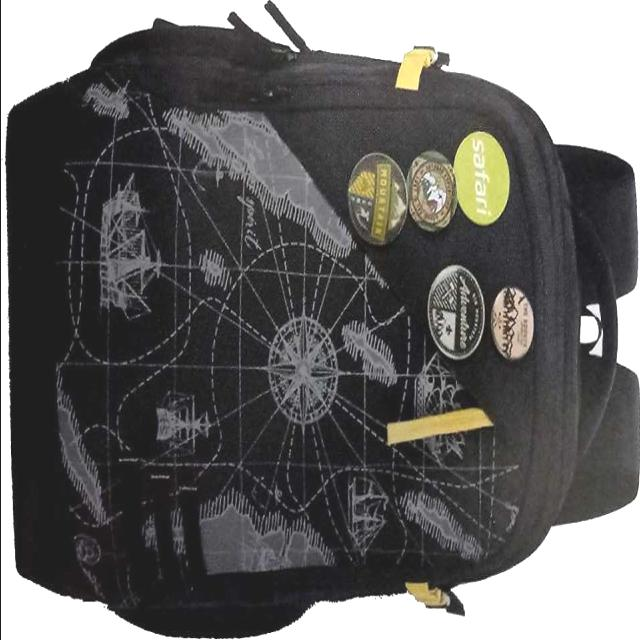backpack: (7, 3, 640, 638)
